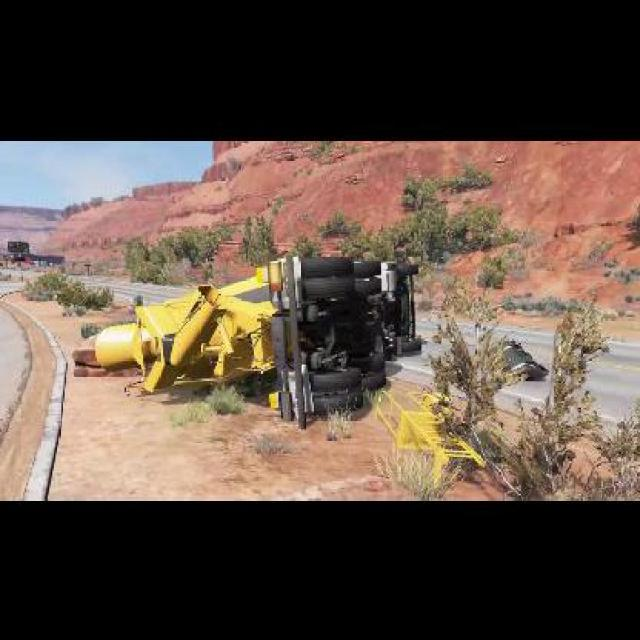accident: (79, 232, 438, 426)
